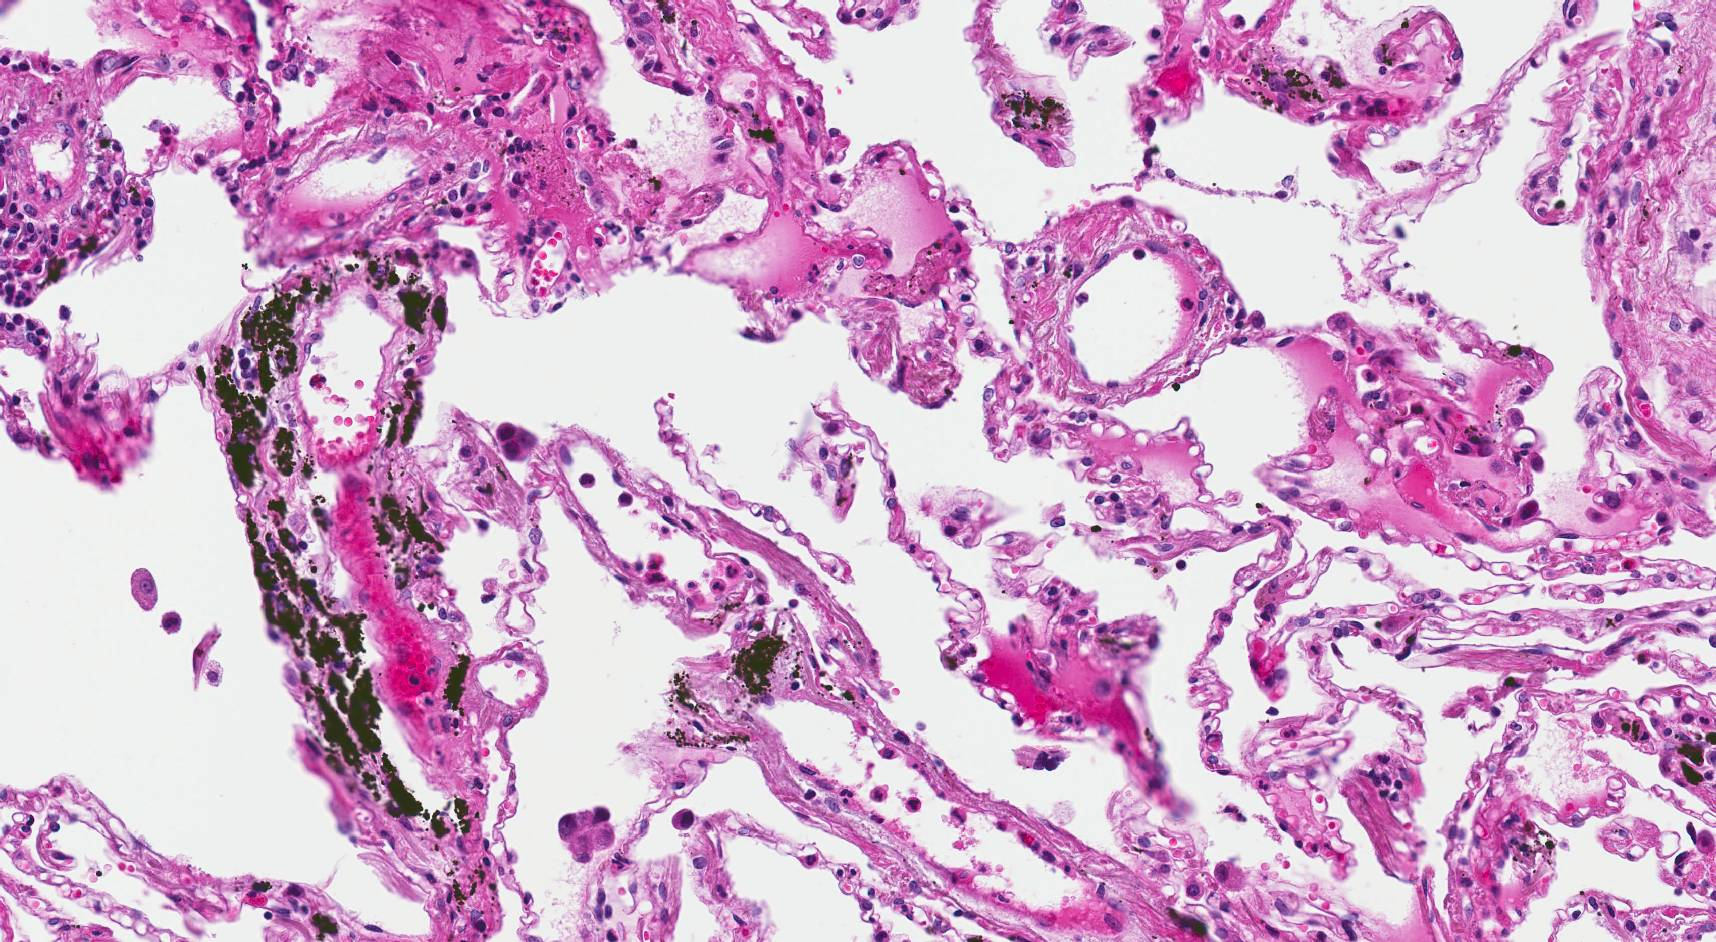stas: (557, 804, 616, 867), (494, 421, 539, 462)
